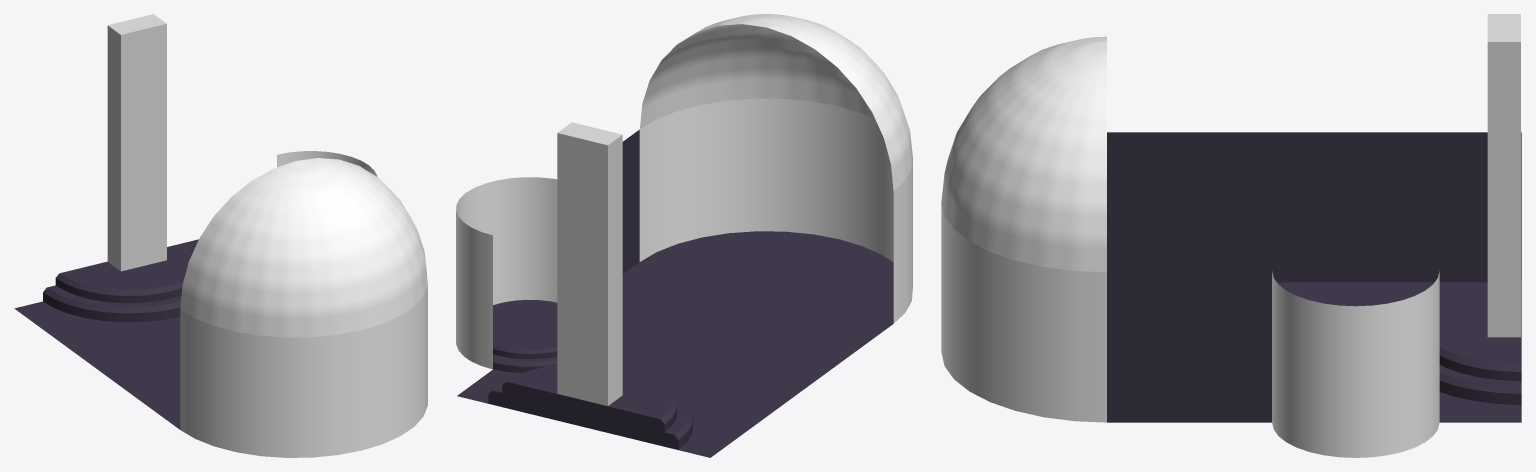
The model's file is ShipFrontEnd.glb.
The picture shows the model from 3 angles, left to right: view 1: azimuth 30°, elevation 25°; view 2: azimuth 150°, elevation 25°; view 3: azimuth 270°, elevation 25°; orthographic projection. The views are drawn at different scales.
Visible parts, largest first — view 1: Sphere, Cylinder, Cube, Plane, Circle.002, Circle.001; view 2: Cylinder, Plane, Sphere, Cube, Circle.001, Cylinder.002, Circle.002, Circle, Plane.001; view 3: Plane, Sphere, Circle.001, Cylinder, Plane.001, Cube, Circle.002.
Part boxes in pixels (bbox=[...]): Sphere: bbox=[180, 158, 427, 337]; Cylinder: bbox=[180, 285, 427, 457]; Cube: bbox=[107, 14, 166, 271]; Plane: bbox=[14, 301, 180, 429]; Circle.002: bbox=[43, 239, 198, 322]; Circle.001: bbox=[277, 151, 377, 176]; Cylinder: bbox=[639, 98, 912, 323]; Plane: bbox=[457, 262, 892, 457]; Sphere: bbox=[640, 14, 912, 190]; Cube: bbox=[557, 122, 622, 405]; Circle.001: bbox=[456, 177, 557, 369]; Cylinder.002: bbox=[640, 231, 893, 323]; Circle.002: bbox=[488, 365, 693, 449]; Circle: bbox=[493, 299, 557, 373]; Plane.001: bbox=[622, 129, 639, 274]; Plane: bbox=[1107, 132, 1521, 422]; Sphere: bbox=[941, 36, 1106, 272]; Circle.001: bbox=[1272, 271, 1439, 457]; Cylinder: bbox=[941, 203, 1106, 422]; Plane.001: bbox=[1107, 272, 1272, 422]; Cube: bbox=[1487, 14, 1520, 337]; Circle.002: bbox=[1439, 280, 1521, 404].
Bounding box in the file's own units: 251 × 216 × 350.
